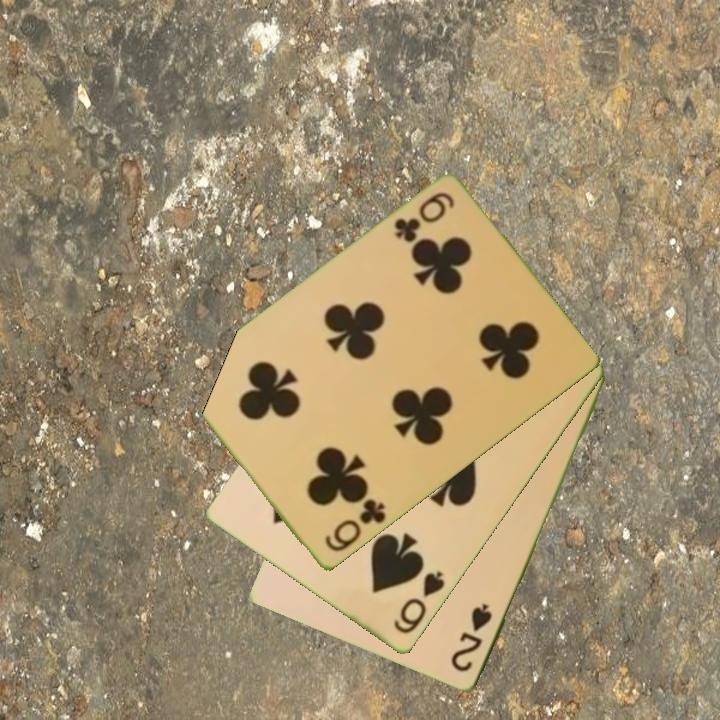2s: (447, 600, 496, 676)
6c: (321, 496, 389, 556), (390, 189, 458, 246)
6s: (390, 568, 448, 638)
